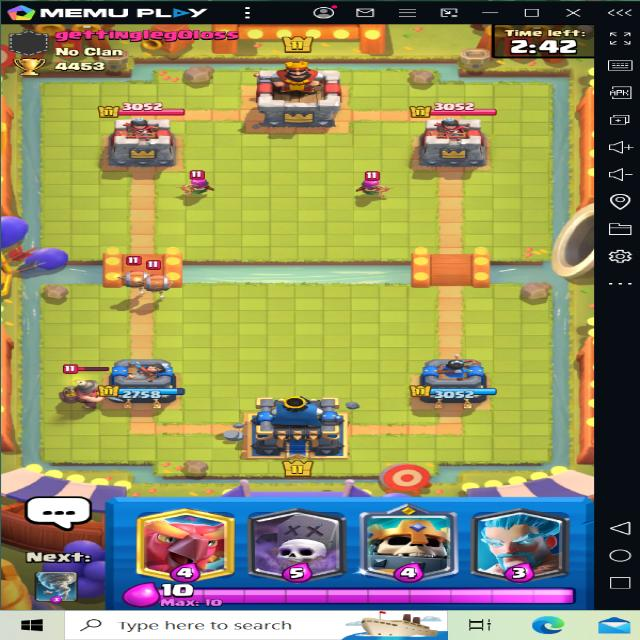Archer: (171, 170, 217, 201), (352, 170, 400, 199)
Miner: (46, 357, 112, 418)
Wallbreakers: (114, 250, 149, 302), (139, 254, 179, 298)
